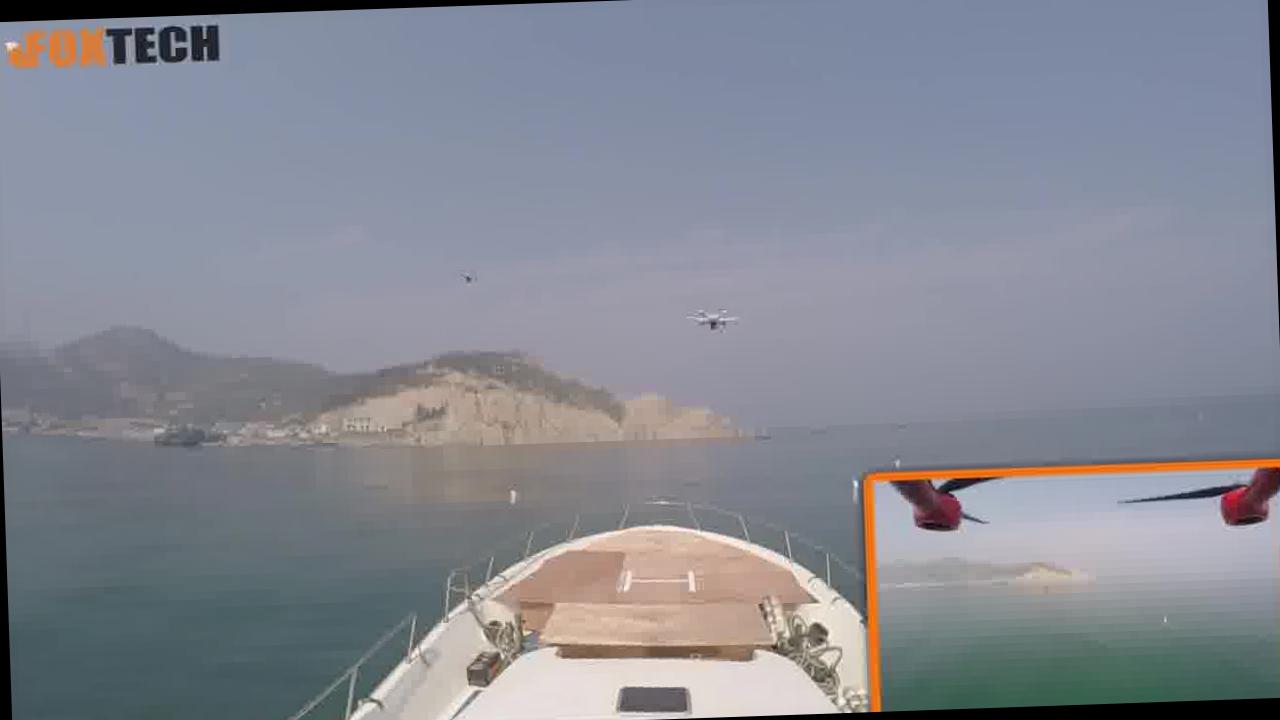drone: (681, 290, 744, 346)
